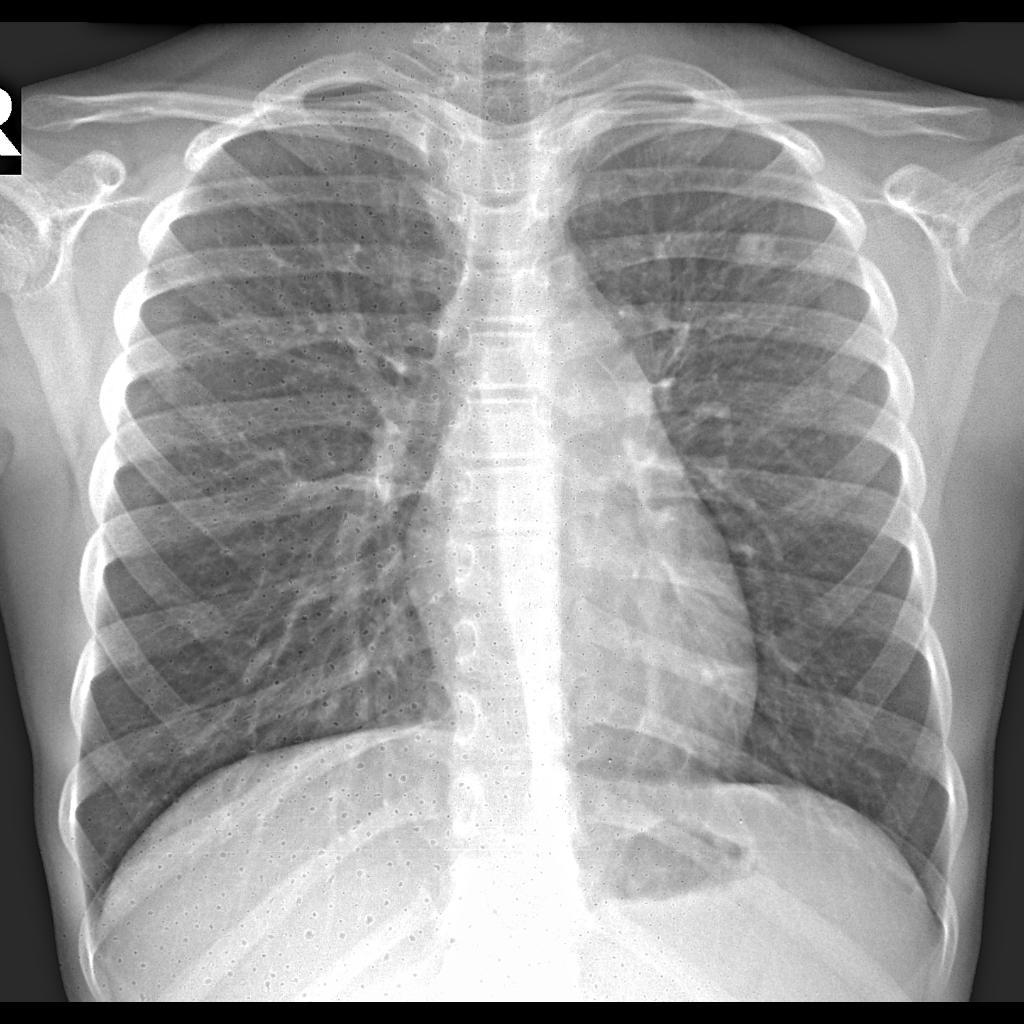Nodule: (731, 226, 782, 277)
